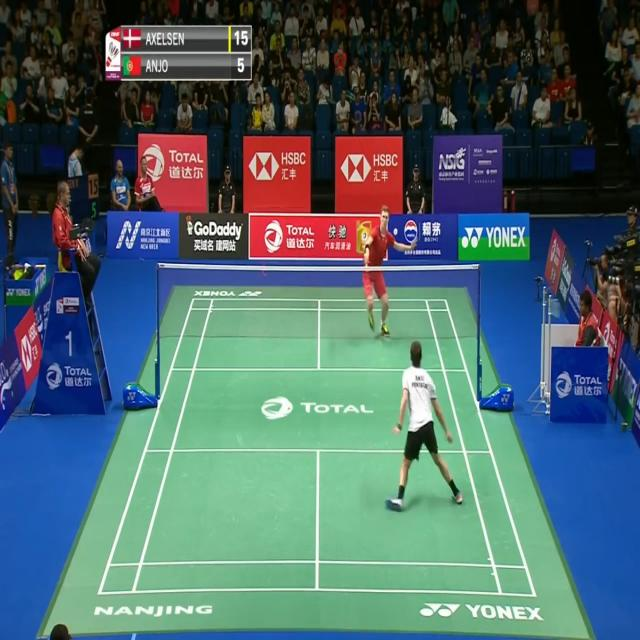Player1: (386, 342, 464, 521)
Player2: (358, 194, 418, 338)
